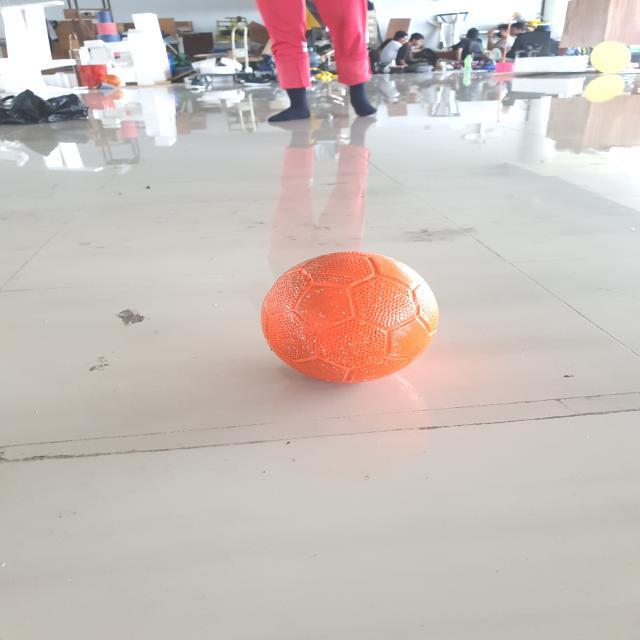bola: (256, 249, 436, 387)
